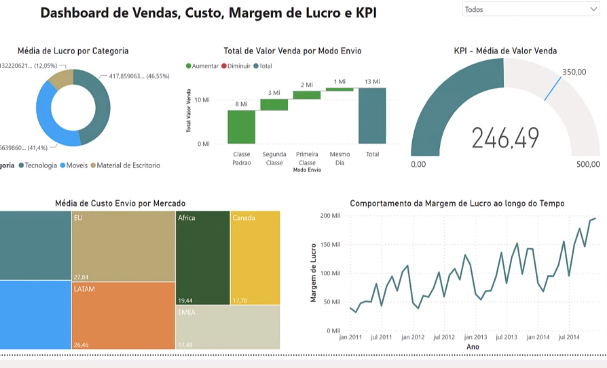

This screenshot's page, from the dashboard's own definition file:
{"tool":"powerbi","page":{"name":"Página 1","canvas":[1280,720],"ordinal":0},"visuals":[{"type":"waterfallChart","fields":{"Category":["Pedidos.Modo Envio"],"Y":["Sum(Vendas.Valor Venda)"]},"box":[352.1,439.8,280.2,280.2],"z":0},{"type":"treemap","fields":{"Group":["Clientes.Mercado"],"Values":["Avg(Vendas.Custo Envio)"]},"box":[0,370.8,352.1,349.2],"z":1000},{"type":"gauge","fields":{"Y":["Avg(Vendas.Valor Venda)"]},"box":[847.9,47.4,432.6,280.2],"z":2000},{"type":"slicer","fields":{"Values":["Pedidos.Data Pedido.Variation.Hierarquia de datas.Ano","Pedidos.Data Pedido.Variation.Hierarquia de datas.Trimestre","Pedidos.Data Pedido.Variation.Hierarquia de datas.Mês","Pedidos.Data Pedido.Variation.Hierarquia de datas.Dia"]},"box":[0,47.4,130.8,158.1],"z":3000},{"type":"donutChart","fields":{"Category":["Produtos.Categoria"],"Y":["Avg(Vendas.Lucro)"]},"box":[960,406.7,304.7,313.3],"z":4000},{"type":"lineChart","fields":{"Category":["Pedidos.Data Pedido.Variation.Hierarquia de datas.Ano","Pedidos.Data Pedido.Variation.Hierarquia de datas.Trimestre","Pedidos.Data Pedido.Variation.Hierarquia de datas.Mês","Pedidos.Data Pedido.Variation.Hierarquia de datas.Dia"],"Y":["Sum(Vendas.Margem Lc)"]},"box":[130.8,47.4,574.9,248.6],"z":5000}]}

Visuals, with their boxes on the page's 1280x720 design canvas (x1, y1, x2, y2). These are canvas units, not pixel positions in the 607x368 screenshot, which may show the page scaled, cropped or inside an application window:
waterfallChart - Pedidos.Modo Envio x Sum(Vendas.Valor Venda): region(352, 440, 632, 720)
treemap - Clientes.Mercado x Avg(Vendas.Custo Envio): region(0, 371, 352, 720)
gauge - Avg(Vendas.Valor Venda): region(848, 47, 1280, 328)
slicer - Pedidos.Data Pedido.Variation.Hierarquia de datas.Ano x Pedidos.Data Pedido.Variation.Hierarquia de datas.Trimestre: region(0, 47, 131, 206)
donutChart - Produtos.Categoria x Avg(Vendas.Lucro): region(960, 407, 1265, 720)
lineChart - Pedidos.Data Pedido.Variation.Hierarquia de datas.Ano x Pedidos.Data Pedido.Variation.Hierarquia de datas.Trimestre: region(131, 47, 706, 296)
